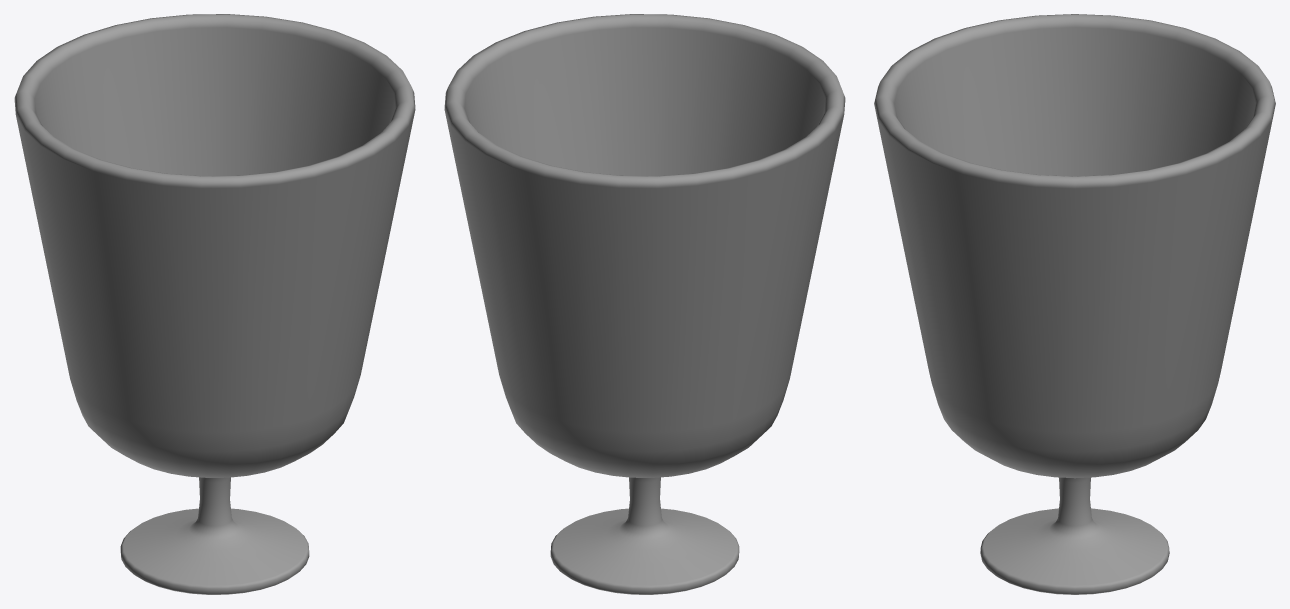
File: Tumbler_02.glb
The picture shows the model from 3 angles, left to right: view 1: azimuth 30°, elevation 25°; view 2: azimuth 150°, elevation 25°; view 3: azimuth 270°, elevation 25°; orthographic projection.
Parts seen in each view (by area): view 1: Tumbler_02; view 2: Tumbler_02; view 3: Tumbler_02.
Boxes of the visible parts, x1,y1,x2,y2 form: Tumbler_02: (14, 14, 415, 594); Tumbler_02: (444, 14, 845, 594); Tumbler_02: (874, 14, 1275, 594).
Size of the model in its own units: 0.0972 by 0.1229 by 0.0972.
Materials: 1 (1 with a texture image).
